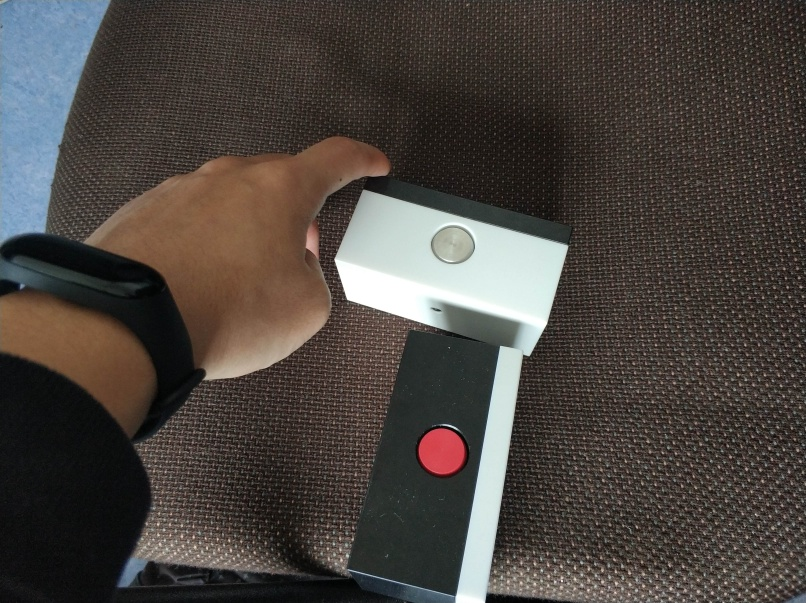black+white+silver: (330, 175, 577, 358)
white+black+red: (342, 329, 528, 602)
